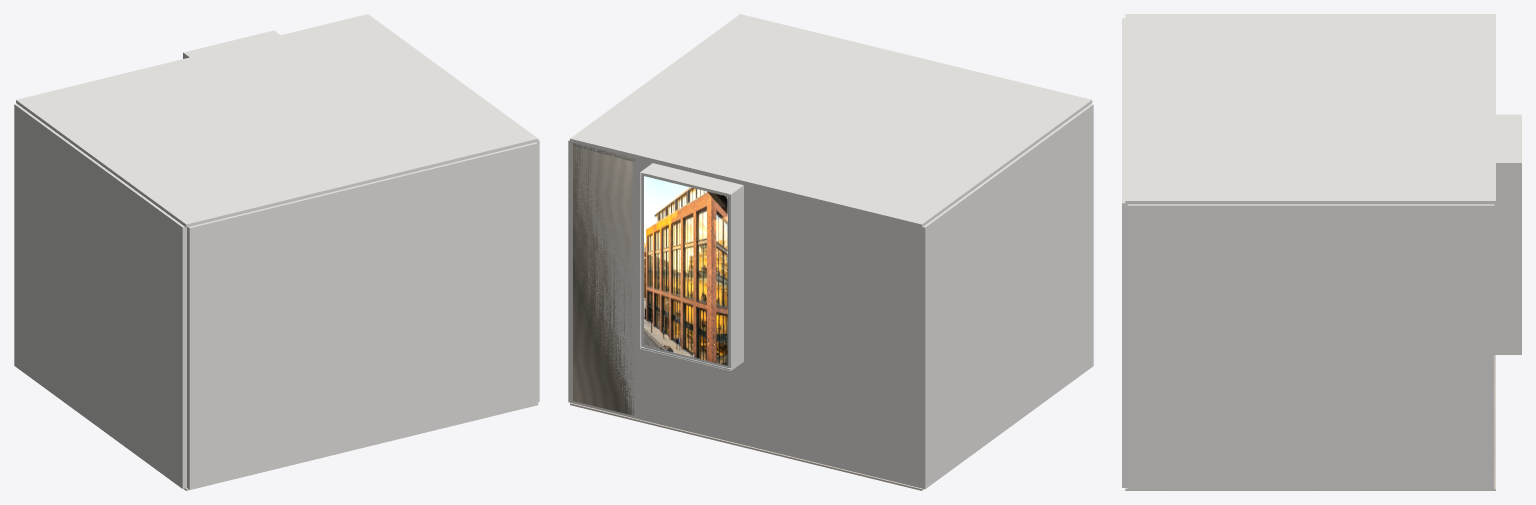
File: room_environment.glb
3 renders of one model, left to right at view 1: azimuth 30°, elevation 25°; view 2: azimuth 150°, elevation 25°; view 3: azimuth 270°, elevation 25°, orthographic. The views are drawn at different scales.
Parts seen in each view (by area): view 1: BedroomShellAndWindowView; view 2: BedroomShellAndWindowView, BuiltInOakWardrobe; view 3: BedroomShellAndWindowView.
Part boxes in pixels (x1,y1,x2,y2): BedroomShellAndWindowView: [14, 14, 539, 490]; BedroomShellAndWindowView: [568, 14, 1093, 490]; BuiltInOakWardrobe: [573, 143, 634, 415]; BedroomShellAndWindowView: [1122, 14, 1521, 490].
Bounding box in the file's own units: 3.57 × 2.55 × 3.18.
Materials: 24 (9 with a texture image).
